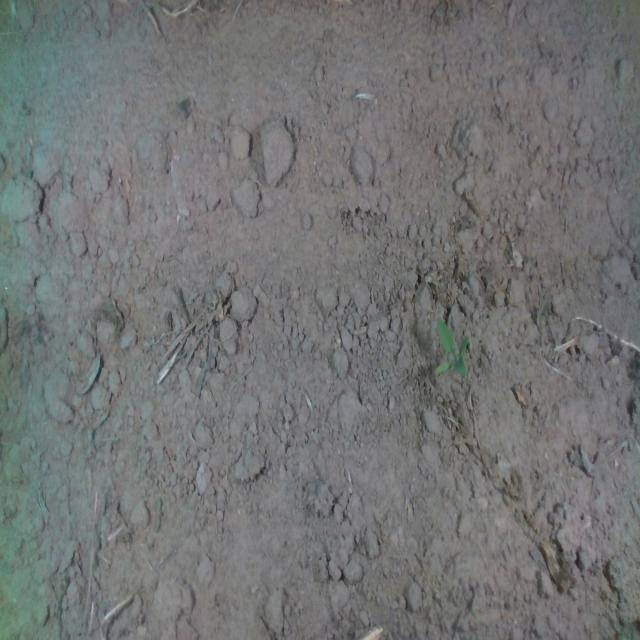weed: (433, 315, 469, 377)
